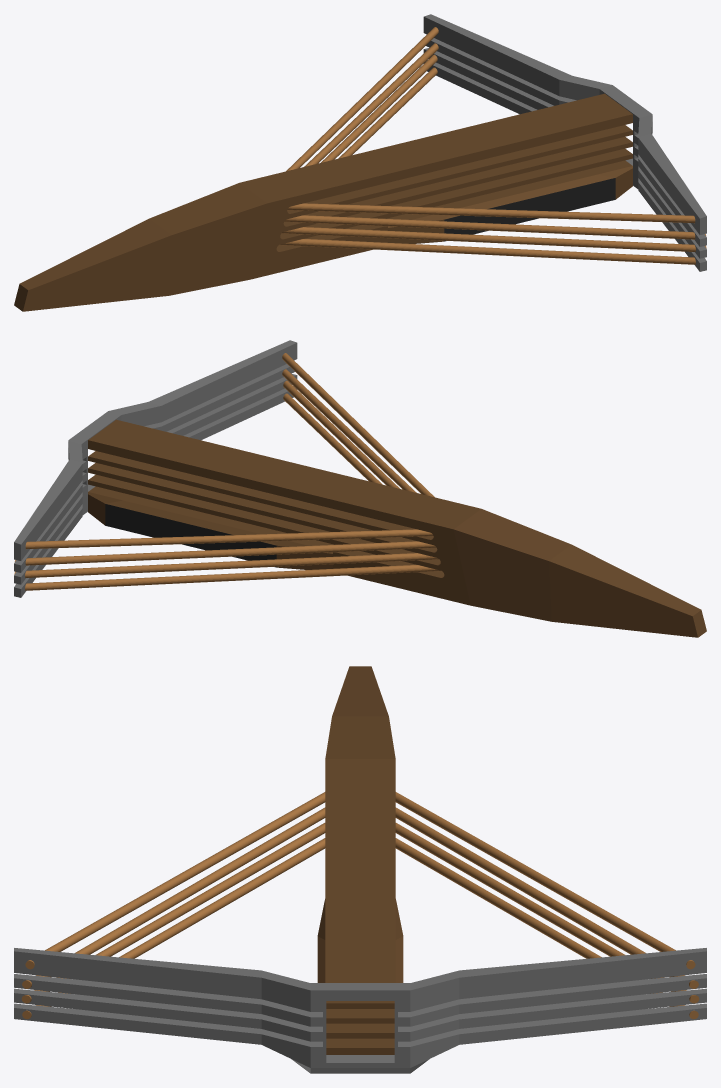
File: CrossBow_01.fbx
3 renders of one model, top to bottom at view 1: azimuth 30°, elevation 25°; view 2: azimuth 150°, elevation 25°; view 3: azimuth 270°, elevation 25°, orthographic. The views are drawn at different scales.
Visible parts, largest first — view 1: Crossbow_001; view 2: Crossbow_001; view 3: Crossbow_001.
Part boxes in pixels (x1,y1,x2,y2): Crossbow_001: (14,14,706,311); Crossbow_001: (14,340,706,637); Crossbow_001: (14,666,706,1073).
Bounding box in the file's own units: 168 × 20.69 × 131.
